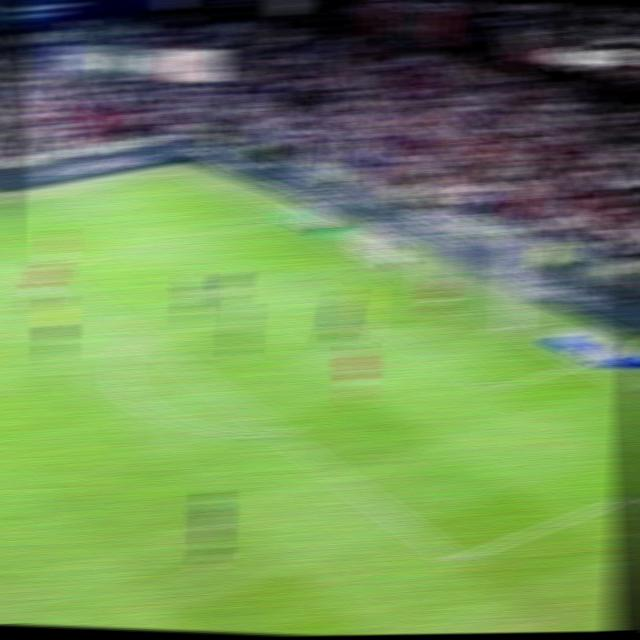bigarea_bottom_inner: (437, 542, 475, 574)
bigarea_top_inner: (29, 262, 63, 280)
bigarea_top_outter: (262, 209, 291, 226)
bottom_arc_area_intersection: (265, 423, 297, 446)
corner: (165, 163, 195, 178)
smallarea_bottom_inner: (478, 373, 514, 403)
smallarea_bottom_outter: (564, 354, 596, 373)
smallarea_top_inner: (284, 272, 314, 291)
smallarea_top_outter: (354, 253, 388, 273)
top_arc_area_intersection: (123, 324, 155, 346)
